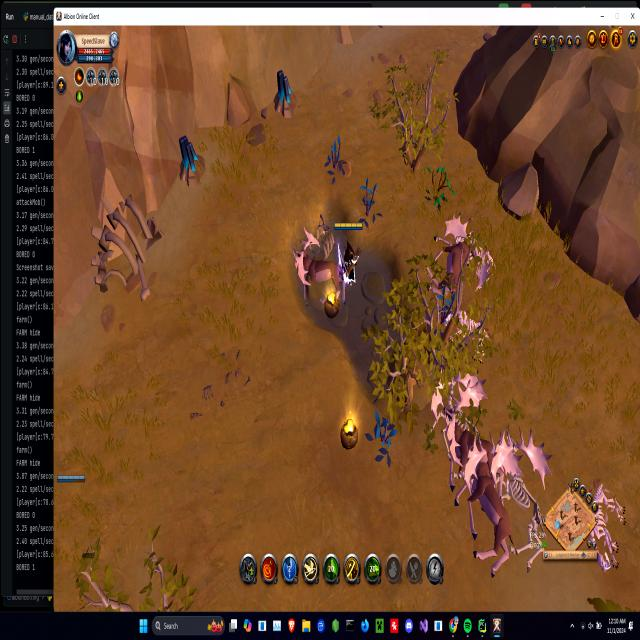mob: (435, 398, 517, 572), (294, 225, 349, 311), (426, 228, 477, 304)
player: (175, 134, 207, 187), (272, 67, 294, 117)
red: (334, 220, 362, 286), (54, 470, 86, 486)
